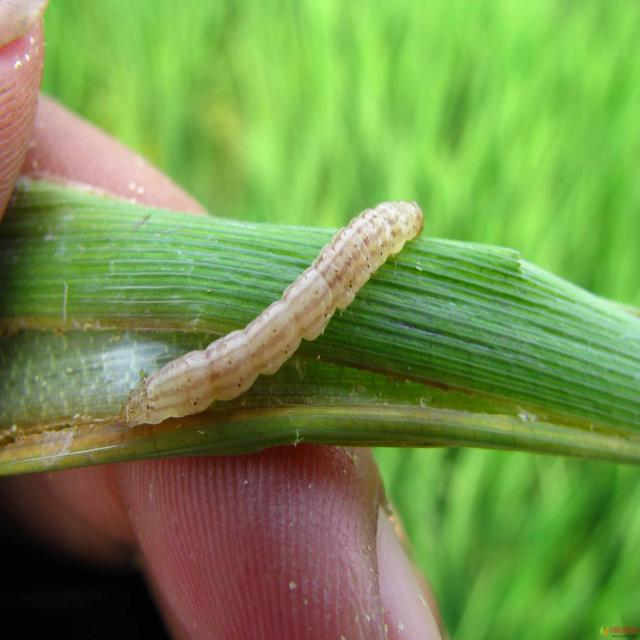yellow-stem-borer-larva: (100, 171, 428, 445)
